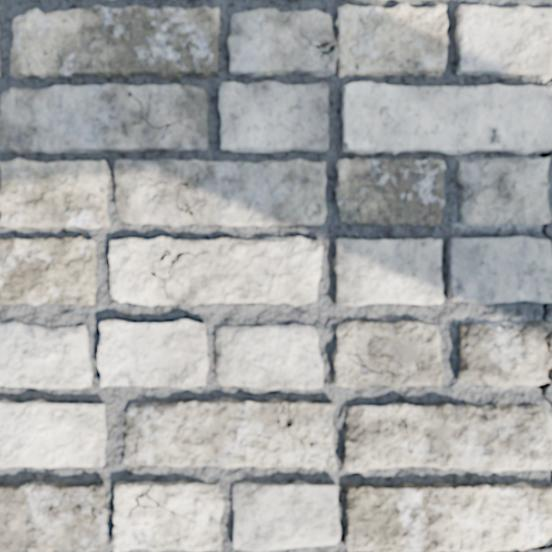brick: (227, 4, 446, 77), (11, 6, 220, 78), (124, 399, 335, 470), (342, 83, 551, 153), (0, 84, 208, 153), (110, 238, 322, 305), (344, 483, 551, 551), (344, 403, 551, 471), (114, 160, 325, 226), (113, 482, 223, 551), (220, 82, 328, 151), (0, 160, 109, 228), (99, 320, 208, 388), (233, 481, 340, 550), (335, 159, 445, 226), (332, 321, 443, 387), (0, 482, 106, 551), (334, 239, 442, 305), (215, 324, 322, 389), (0, 401, 105, 467), (456, 6, 551, 77), (449, 238, 551, 303), (0, 238, 95, 305), (0, 321, 91, 388)
broken_brick: (453, 157, 551, 227), (456, 320, 551, 389)
crack: (266, 401, 317, 452), (83, 485, 99, 530), (535, 367, 551, 406), (513, 543, 551, 551), (541, 223, 551, 243), (543, 331, 551, 354), (542, 302, 550, 322), (535, 150, 551, 160), (541, 75, 551, 83), (455, 181, 461, 191), (545, 185, 549, 192), (545, 172, 547, 179), (550, 472, 551, 482), (496, 550, 506, 551)
